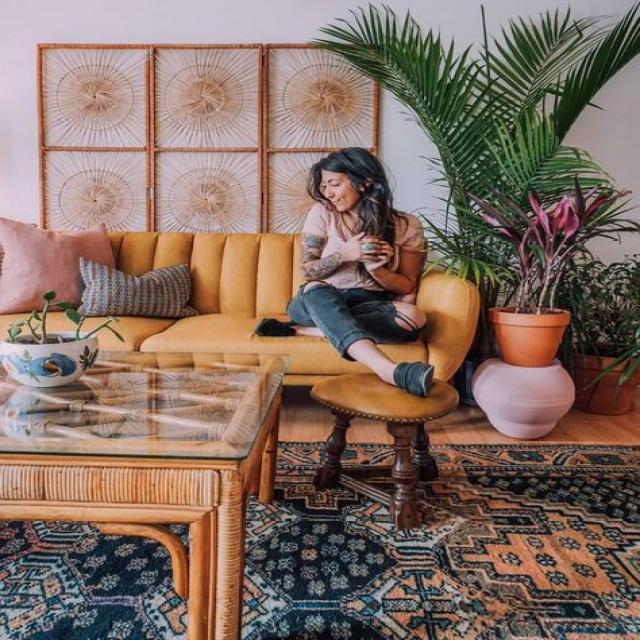sitting: (253, 145, 471, 401)
